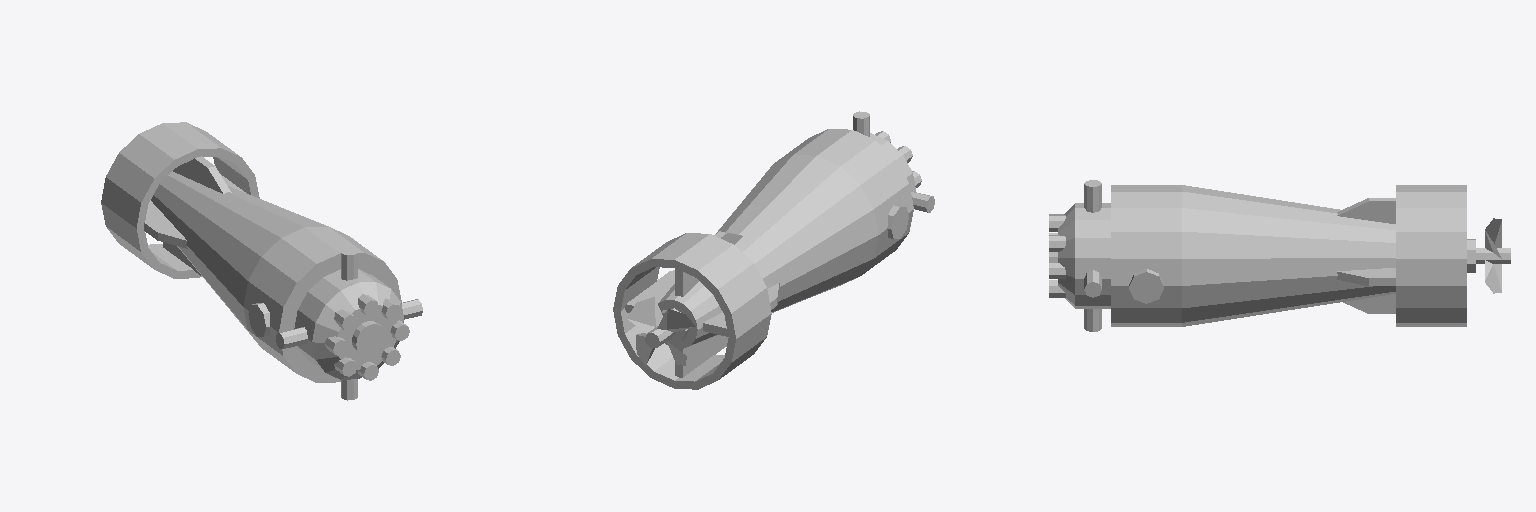
File: torpedo.obj
The picture shows the model from 3 angles: view 1: azimuth 30°, elevation 25°; view 2: azimuth 150°, elevation 25°; view 3: azimuth 270°, elevation 25°; orthographic projection.
Visible parts, largest first — view 1: Cylinder; view 2: Cylinder; view 3: Cylinder.
Part boxes in pixels (x1,y1,x2,y2): Cylinder: (101,122,422,400); Cylinder: (613,111,934,389); Cylinder: (1049,180,1510,331).
Bounding box in the file's own units: 1.12 × 1.12 × 3.25.